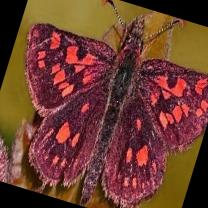butterfly: (25, 17, 208, 208)
